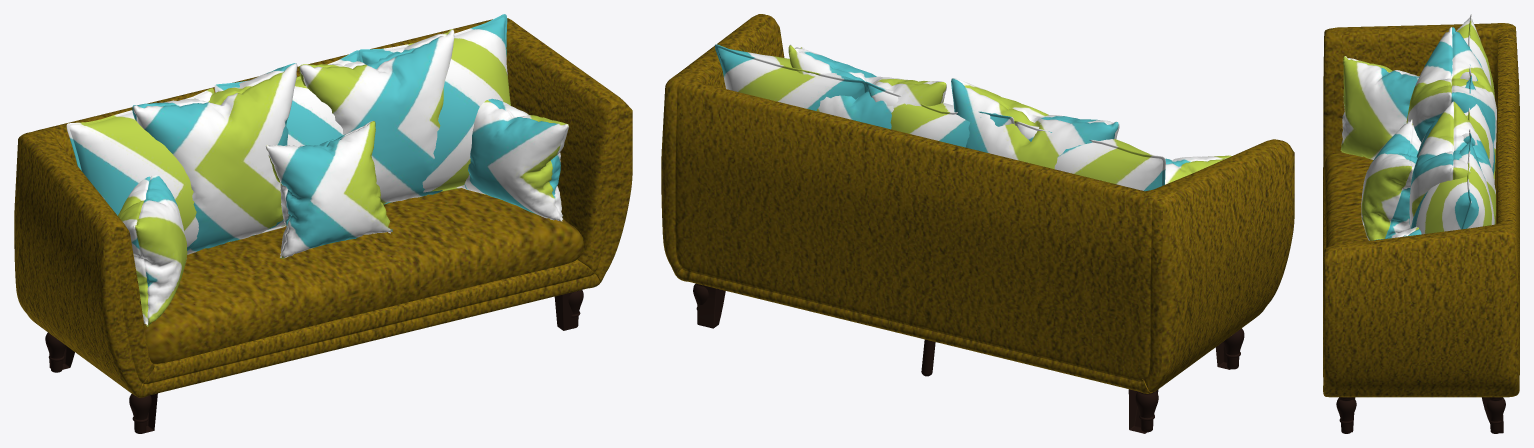
3 views of the same model, side by side, from view 1: azimuth 30°, elevation 25°; view 2: azimuth 150°, elevation 25°; view 3: azimuth 270°, elevation 25° (orthographic). The views are drawn at different scales.
Parts seen in each view (by area): view 1: pillow_02_geo, couch, seat, pillow_01_geo, Legs_02_geo, Legs_01_geo; view 2: couch, pillow_02_geo, pillow_01_geo, Legs_01_geo, Legs_02_geo; view 3: couch, pillow_02_geo, pillow_01_geo, seat, Legs_02_geo, Legs_01_geo.
Boxes of the visible parts, bbox=[...] form: pillow_02_geo: bbox=[118, 29, 568, 326]; couch: bbox=[14, 18, 632, 397]; seat: bbox=[144, 188, 583, 363]; pillow_01_geo: bbox=[66, 14, 510, 250]; Legs_02_geo: bbox=[45, 290, 583, 433]; Legs_01_geo: bbox=[49, 290, 578, 432]; couch: bbox=[661, 14, 1294, 393]; pillow_02_geo: bbox=[788, 44, 1231, 184]; pillow_01_geo: bbox=[714, 44, 1165, 191]; Legs_01_geo: bbox=[697, 284, 1230, 433]; Legs_02_geo: bbox=[693, 283, 1244, 432]; couch: bbox=[1323, 23, 1519, 397]; pillow_02_geo: bbox=[1340, 27, 1496, 240]; pillow_01_geo: bbox=[1411, 14, 1494, 234]; seat: bbox=[1324, 152, 1373, 247]; Legs_02_geo: bbox=[1336, 397, 1505, 433]; Legs_01_geo: bbox=[1339, 397, 1503, 433].
Bounding box in the file's own units: 2.09 × 1.03 × 0.7535.
4 materials, 3 textured.
